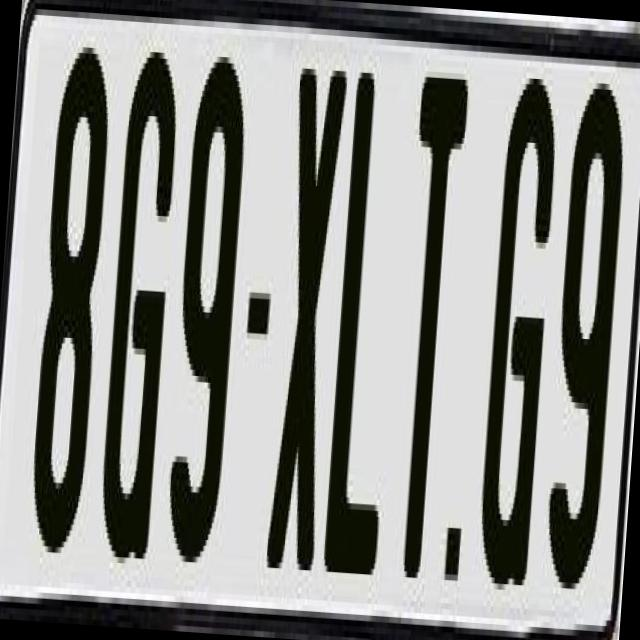8: (28, 40, 116, 548)
9: (162, 49, 258, 564), (538, 75, 630, 602)
G: (474, 70, 568, 610), (94, 39, 180, 552)
L: (319, 66, 416, 604)
T: (382, 64, 470, 596)
X: (263, 68, 348, 582)
